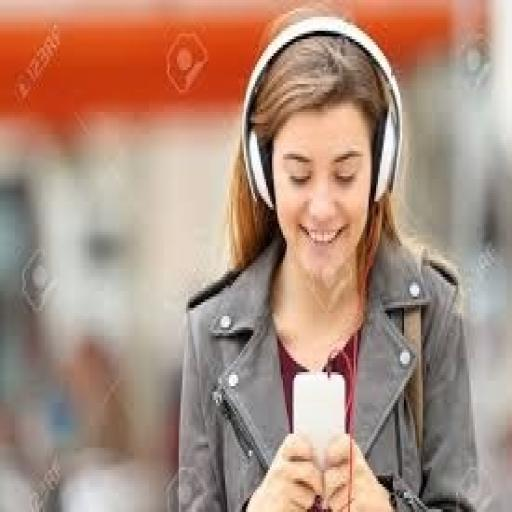listening_to_music: (171, 11, 484, 509)
